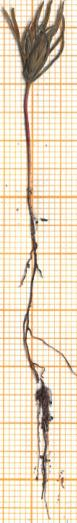flower: (0, 0, 77, 87)
root: (10, 219, 77, 520)
stem: (14, 83, 40, 222)
